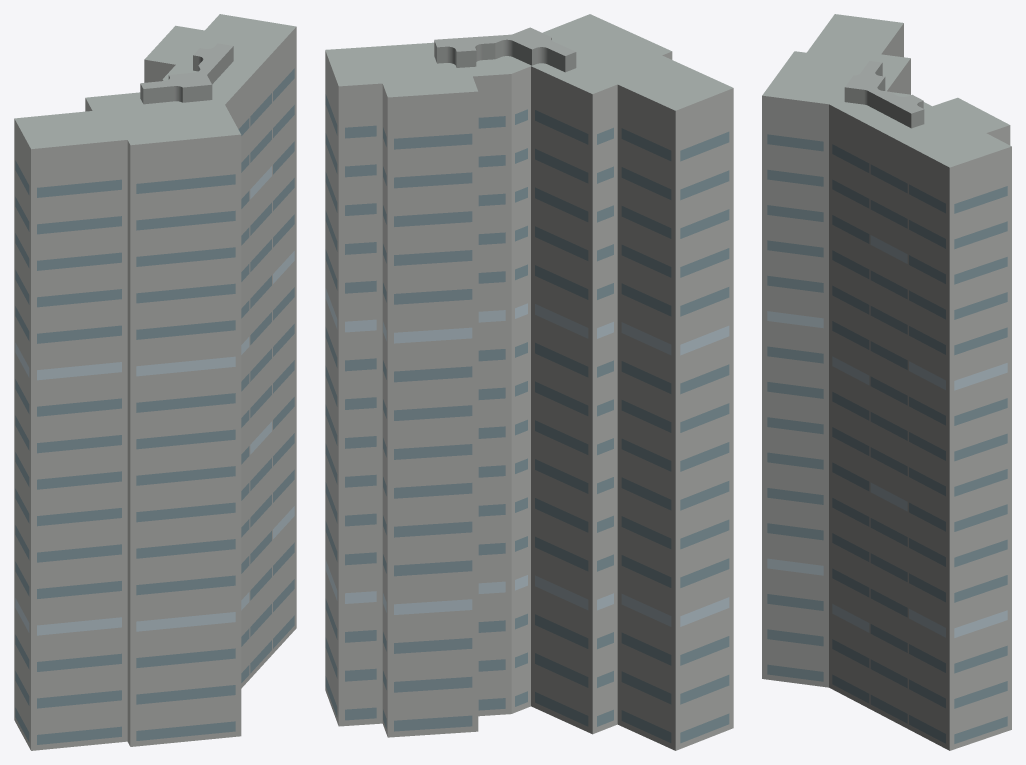
The model's file is fallback-gaepo-raemian-forest-109.glb.
3 renders of one model, left to right at view 1: azimuth 30°, elevation 25°; view 2: azimuth 150°, elevation 25°; view 3: azimuth 270°, elevation 25°, orthographic. The views are drawn at different scales.
Parts seen in each view (by area): view 1: fallback-gaepo-raemian-forest-109; view 2: fallback-gaepo-raemian-forest-109; view 3: fallback-gaepo-raemian-forest-109.
Boxes of the visible parts, x1,y1,x2,y2 form: fallback-gaepo-raemian-forest-109: (14, 14, 296, 750); fallback-gaepo-raemian-forest-109: (325, 14, 733, 750); fallback-gaepo-raemian-forest-109: (762, 14, 1011, 750).
Bounding box in the file's own units: 53.44 × 97 × 36.71.
